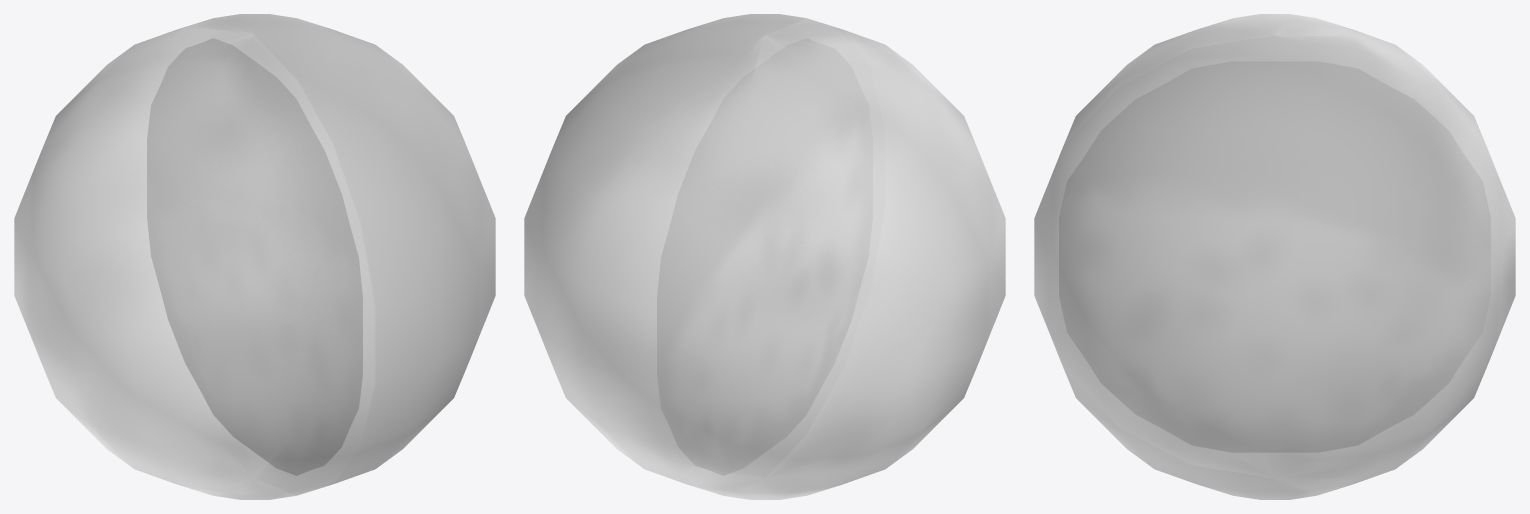
3 renders of one model, left to right at view 1: azimuth 30°, elevation 25°; view 2: azimuth 150°, elevation 25°; view 3: azimuth 270°, elevation 25°, orthographic.
Visible parts, largest first — view 1: Sphere001, Picture Plane; view 2: Sphere001, Picture Plane; view 3: Sphere001, Picture Plane.
Part boxes in pixels (bbox=[...]): Sphere001: bbox=[14, 14, 495, 499]; Picture Plane: bbox=[147, 38, 362, 475]; Sphere001: bbox=[524, 14, 1005, 499]; Picture Plane: bbox=[657, 38, 872, 475]; Sphere001: bbox=[1034, 14, 1515, 499]; Picture Plane: bbox=[1059, 61, 1490, 452].
Size of the model in its own units: 1.35 by 1.39 by 1.37.
Materials: 1 (1 with a texture image).
